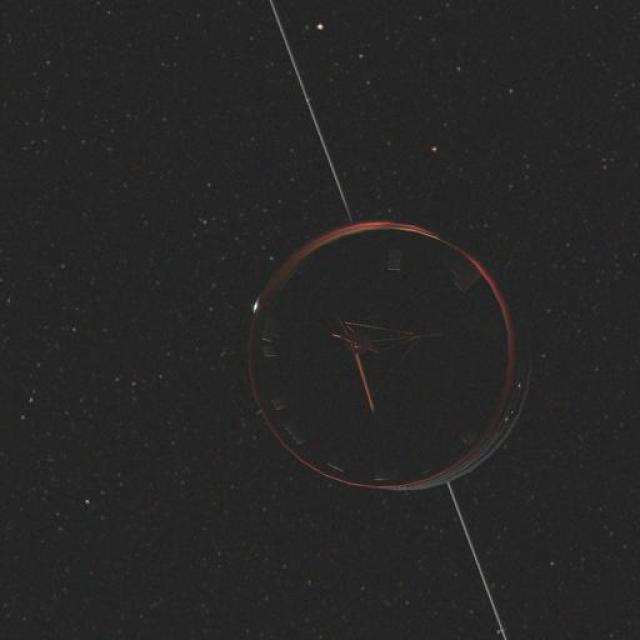double_start: (215, 215, 548, 523)
